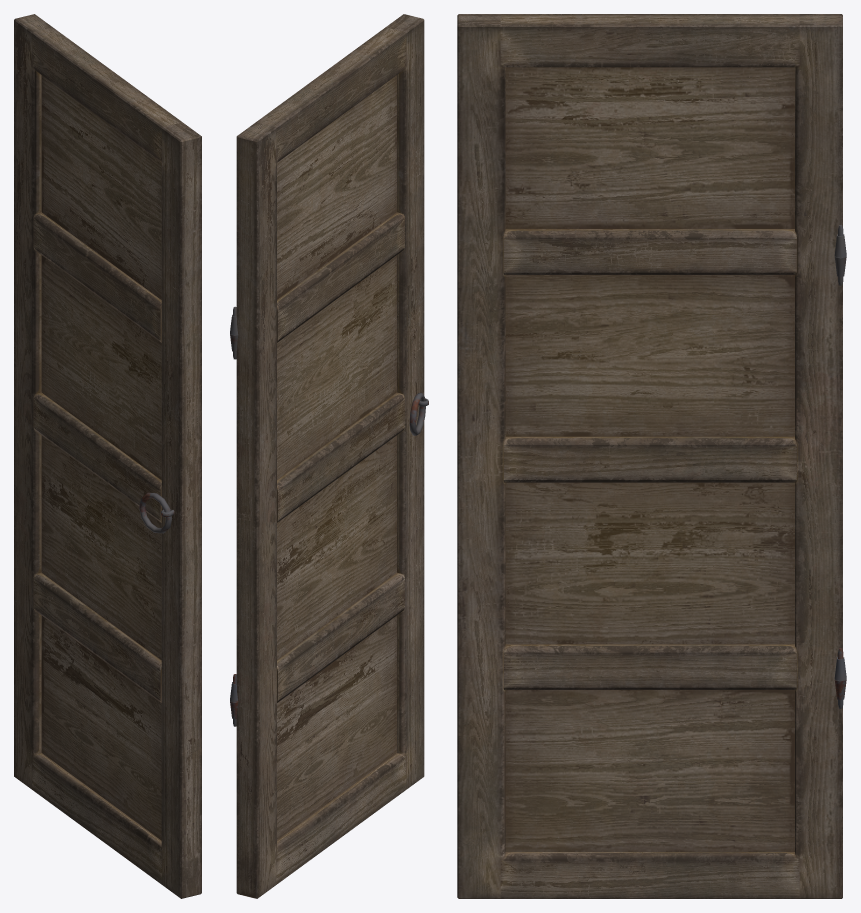
Rendered from SM_JWD_Door01a.fbx.
3 views of the same model, side by side, from view 1: azimuth 30°, elevation 25°; view 2: azimuth 150°, elevation 25°; view 3: azimuth 270°, elevation 25° (orthographic). The views are drawn at different scales.
Visible parts, largest first — view 1: SM_JWD_Door01a; view 2: SM_JWD_Door01a; view 3: SM_JWD_Door01a.
Boxes of the visible parts, x1,y1,x2,y2 form: SM_JWD_Door01a: (14, 14, 201, 898); SM_JWD_Door01a: (230, 14, 428, 898); SM_JWD_Door01a: (457, 14, 846, 898).
Bounding box in the file's own units: 12.32 × 80.73 × 200.
Materials: 1 (1 with a texture image).
